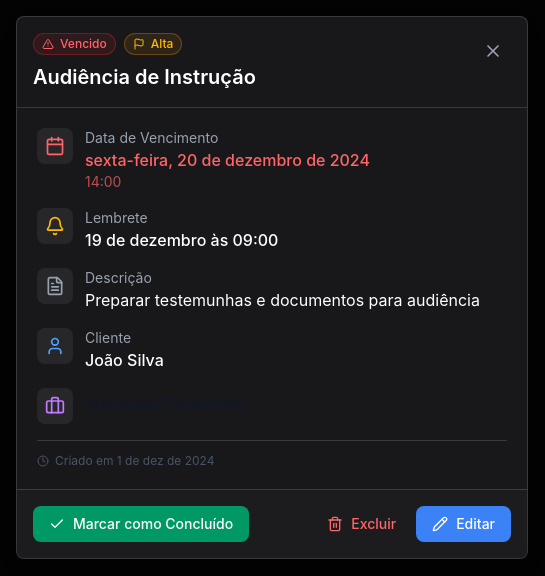
DeadlineDetailModal › should show delete confirmation when clicking delete
Click the button "Excluir" at (362, 524), box [315,506,408,542]
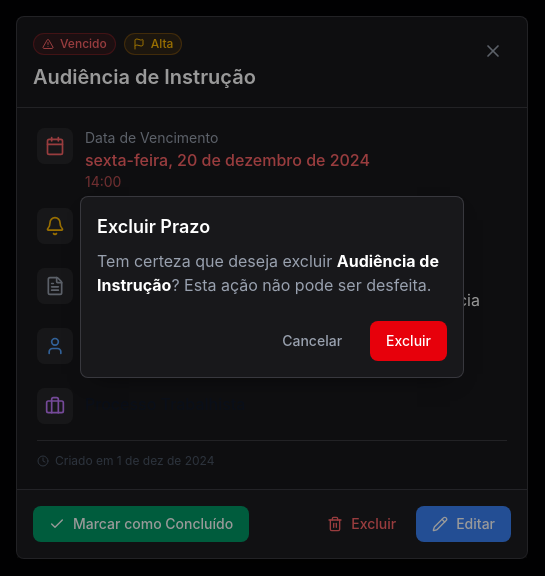
Result: the heading "Excluir Prazo" is shown at [97,216,210,237]
Result: the text "Tem certeza que deseja excluir" is shown at [97,251,332,271]
